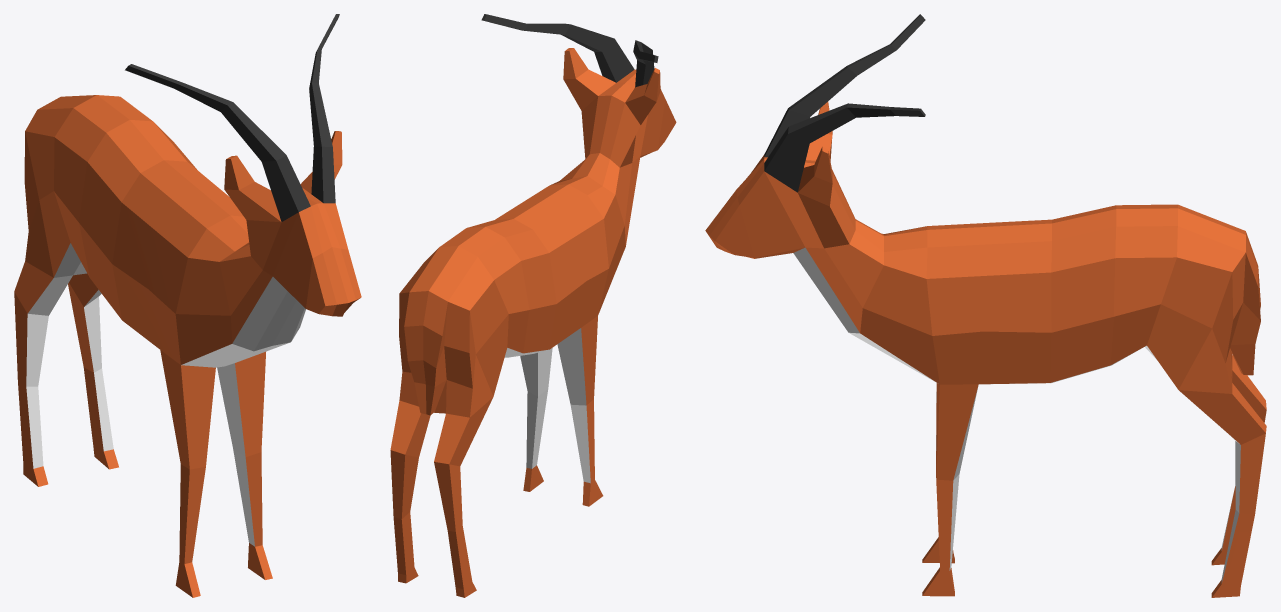
File: gazelle.fbx
The picture shows the model from 3 angles, left to right: view 1: azimuth 30°, elevation 25°; view 2: azimuth 150°, elevation 25°; view 3: azimuth 270°, elevation 25°; orthographic projection. The views are drawn at different scales.
Parts seen in each view (by area): view 1: Gazelle; view 2: Gazelle; view 3: Gazelle.
Boxes of the visible parts, x1,y1,x2,y2 form: Gazelle: (14,14,361,597); Gazelle: (390,14,676,597); Gazelle: (705,14,1266,597).
Bounding box in the file's own units: 0.2649 × 0.6534 × 0.6422.
